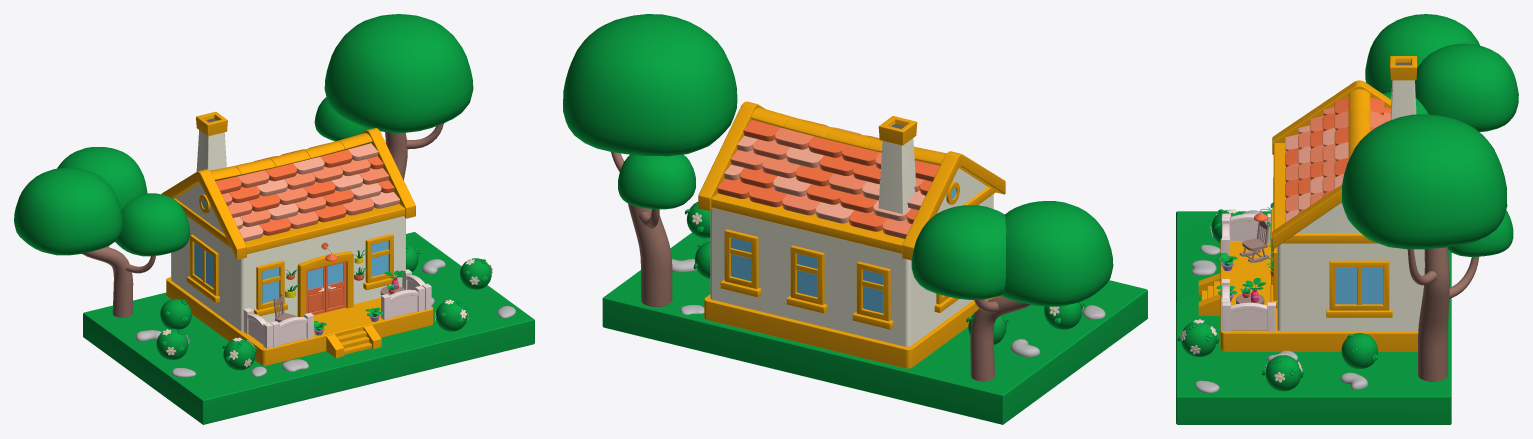
File: Town_Island_12.glb
The picture shows the model from 3 angles, left to right: view 1: azimuth 30°, elevation 25°; view 2: azimuth 150°, elevation 25°; view 3: azimuth 270°, elevation 25°; orthographic projection. The views are drawn at different scales.
Parts seen in each view (by area): view 1: Town_12_House_1, Town_12_Base_1, Town_12_Tree_2, Town_12_Tree_1, Town_12_Fence_2, Town_12_Fence_4, Town_12_Bush_6, Town_12_Bush_2, Town_12_Bush_3, Town_12_Bush_5, Town_12_Bush_1, Town_12_Fence_3 (+1 smaller); view 2: Town_12_House_1, Town_12_Base_1, Town_12_Tree_2, Town_12_Tree_1, Town_12_Bush_3, Town_12_Bush_5; view 3: Town_12_House_1, Town_12_Tree_2, Town_12_Base_1, Town_12_Tree_1, Town_12_Fence_1, Town_12_Bush_2, Town_12_Bush_5, Town_12_Bush_4, Town_12_Fence_3, Town_12_Rocking_Chair_1, Town_12_Bush_6, Town_12_Stone_1 (+1 smaller).
Boxes of the visible parts, x1,y1,x2,y2 form: Town_12_House_1: (161, 111, 433, 365); Town_12_Base_1: (83, 232, 534, 424); Town_12_Tree_2: (314, 14, 473, 180); Town_12_Tree_1: (14, 147, 190, 317); Town_12_Fence_2: (381, 285, 424, 320); Town_12_Fence_4: (270, 312, 313, 347); Town_12_Bush_6: (222, 337, 256, 370); Town_12_Bush_2: (434, 299, 468, 331); Town_12_Bush_3: (156, 328, 189, 360); Town_12_Bush_5: (460, 258, 492, 289); Town_12_Bush_1: (160, 299, 191, 329); Town_12_Fence_3: (243, 308, 272, 348); Town_12_House_1: (698, 101, 1005, 368); Town_12_Base_1: (602, 232, 1147, 424); Town_12_Tree_2: (563, 14, 737, 307); Town_12_Tree_1: (911, 201, 1113, 381); Town_12_Bush_3: (1044, 301, 1084, 329); Town_12_Bush_5: (684, 202, 710, 238); Town_12_House_1: (1198, 56, 1424, 351); Town_12_Tree_2: (1342, 114, 1513, 381); Town_12_Base_1: (1176, 211, 1451, 424); Town_12_Tree_1: (1365, 14, 1518, 132); Town_12_Fence_1: (1222, 302, 1275, 331); Town_12_Bush_2: (1177, 319, 1219, 356); Town_12_Bush_5: (1262, 354, 1303, 391); Town_12_Bush_4: (1341, 333, 1378, 368); Town_12_Fence_3: (1222, 213, 1270, 242); Town_12_Rocking_Chair_1: (1239, 221, 1269, 262); Town_12_Bush_6: (1210, 209, 1242, 243); Town_12_Stone_1: (1340, 372, 1367, 389).
Bounding box in the file's own units: 20.86 × 11.33 × 12.33.
33 materials, 33 textured.
